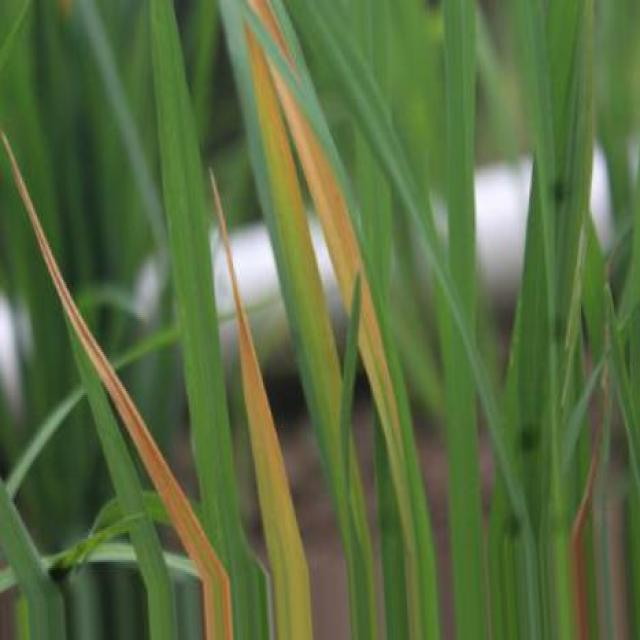Rice Tungro: (242, 0, 439, 638), (1, 131, 231, 639), (211, 173, 312, 639)
